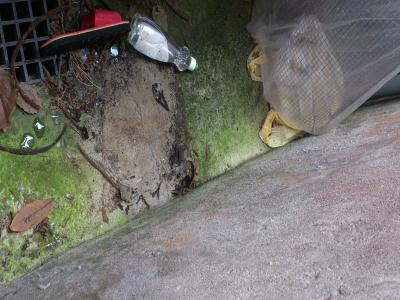bottle: (126, 12, 202, 77)
